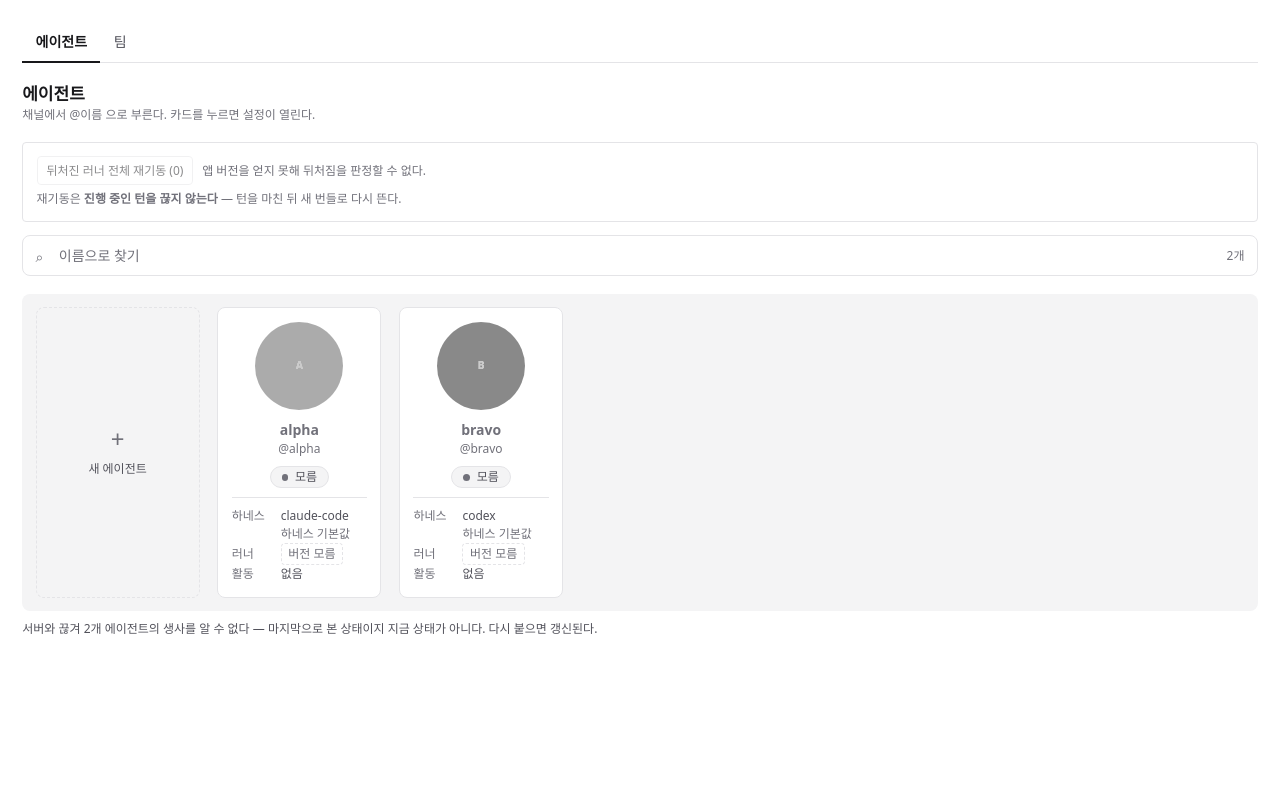
Scenario: AgentsSettings — 에이전트별 계정 풀 › 풀이 없는 하네스에는 선택을 그리지 않는다 — 조건은 형제 테스트와 같다
Click the button "B bravo @bravo": (481, 390) [414, 322, 549, 458]
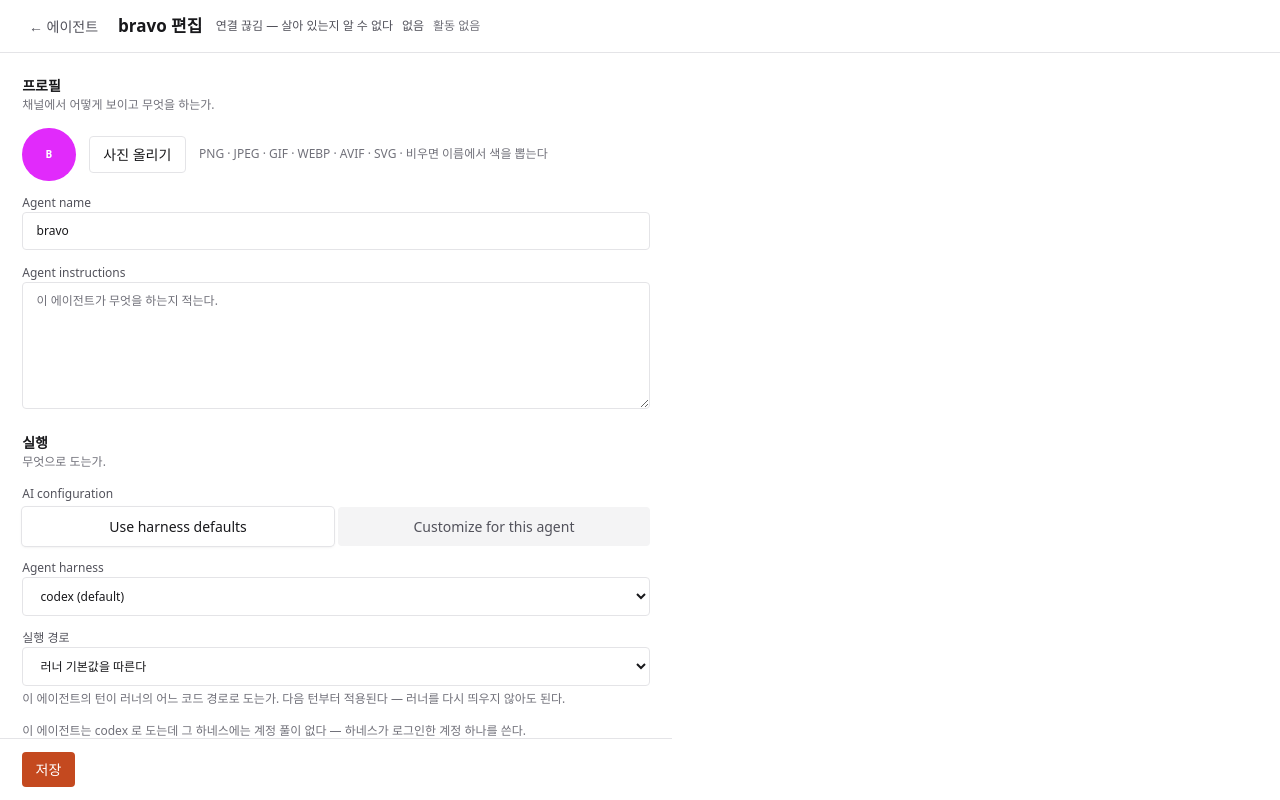
Expected: the dropdown labelled "Agent harness" shows "codex (default)", [22, 577, 650, 616]
